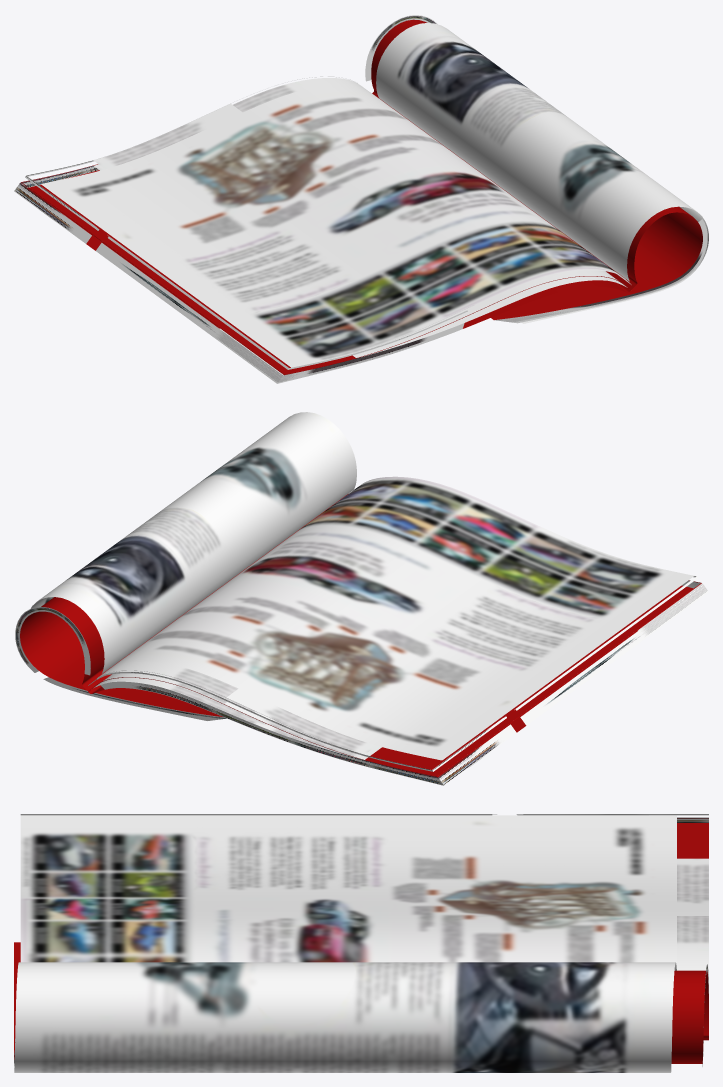
File: Magazine.FBX
3 views of the same model, one above another, from view 1: azimuth 30°, elevation 25°; view 2: azimuth 150°, elevation 25°; view 3: azimuth 270°, elevation 25° (orthographic). The views are drawn at different scales.
Visible parts, largest first — view 1: Magazine; view 2: Magazine; view 3: Magazine.
Boxes of the visible parts, bbox=[...] form: Magazine: bbox=[14, 15, 708, 383]; Magazine: bbox=[15, 412, 708, 785]; Magazine: bbox=[14, 814, 708, 1072].
Size of the model in its own units: 26.32 by 4.76 by 28.18.
Materials: 1 (1 with a texture image).
